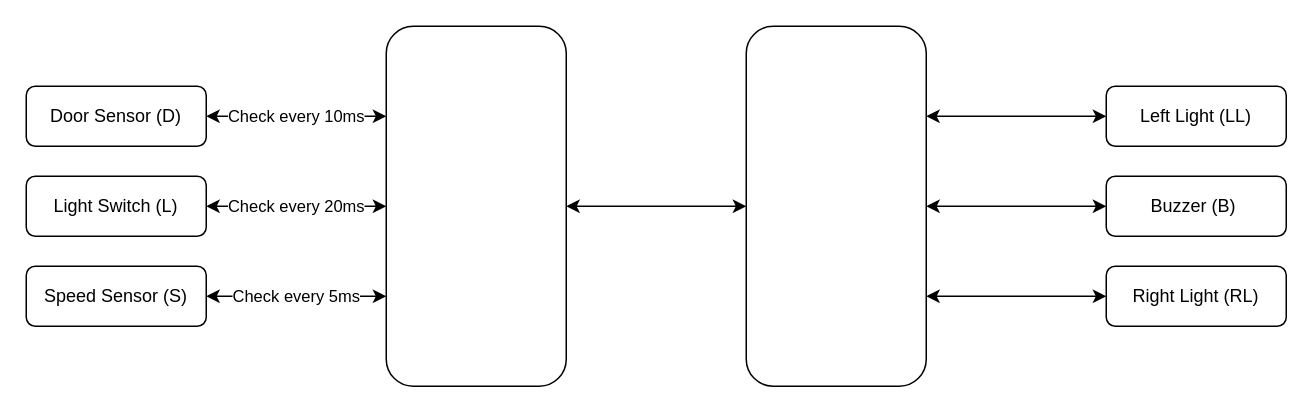
The diagram is 1313 pixels wide and 413 high, and some of its shapes have lost their labels. Each missing label, with the centre of its shape:
"ECU 1" belongs at (x=475, y=205).
"ECU 2" belongs at (x=835, y=205).
